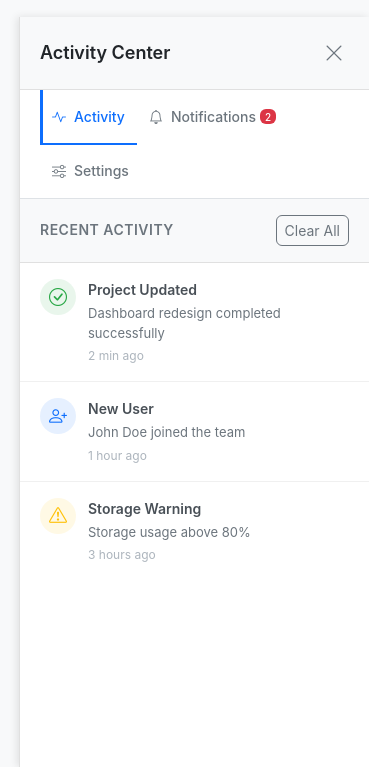
Test: RightPanel › switches to settings tab when clicked
Click the button "Settings". click: (90, 172)
box: [40,144,141,199]
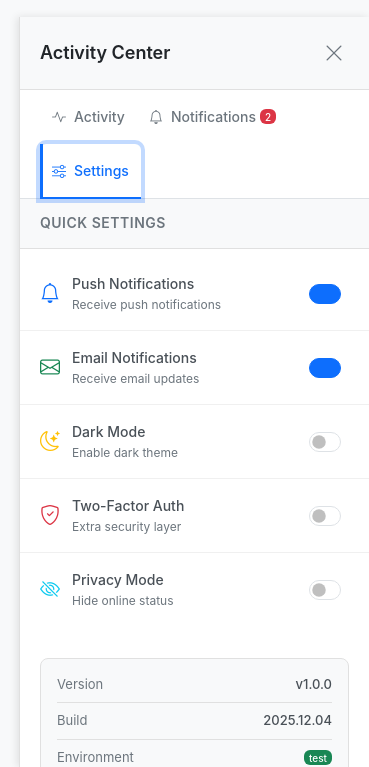
expect the heading "Quick Settings" is shown: met, box [40,215,166,232]
expect the text "Push Notifications" is shown: met, box [72,275,194,292]
expect the text "Email Notifications" is shown: met, box [72,349,197,366]
